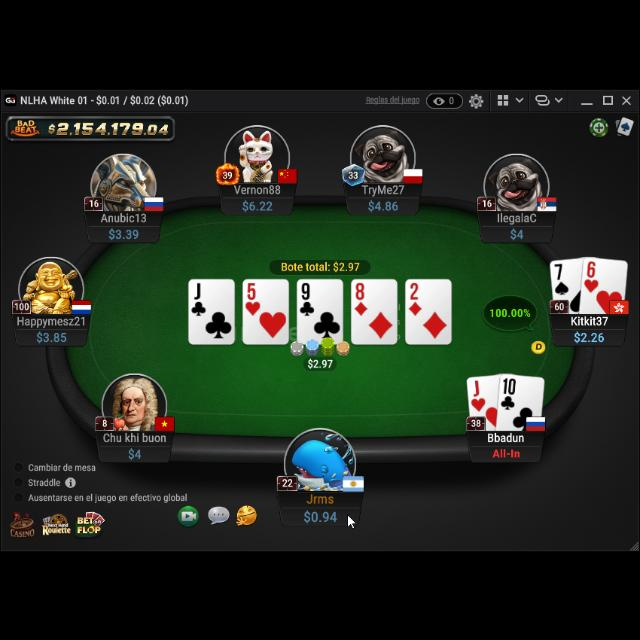2d: (409, 282, 423, 316)
5h: (245, 282, 261, 316)
8d: (354, 282, 368, 316)
9c: (299, 282, 315, 316)
Jc: (190, 282, 208, 316)
all_in_symbol: (491, 444, 522, 458)
bet_text: (306, 356, 334, 368)
dealer: (528, 336, 548, 354)
pot_text: (280, 259, 362, 271)
stack_text: (302, 506, 338, 524), (106, 223, 140, 239), (240, 197, 276, 211), (34, 328, 68, 342), (572, 328, 606, 342), (366, 197, 399, 211), (127, 443, 143, 459), (508, 224, 526, 238)
